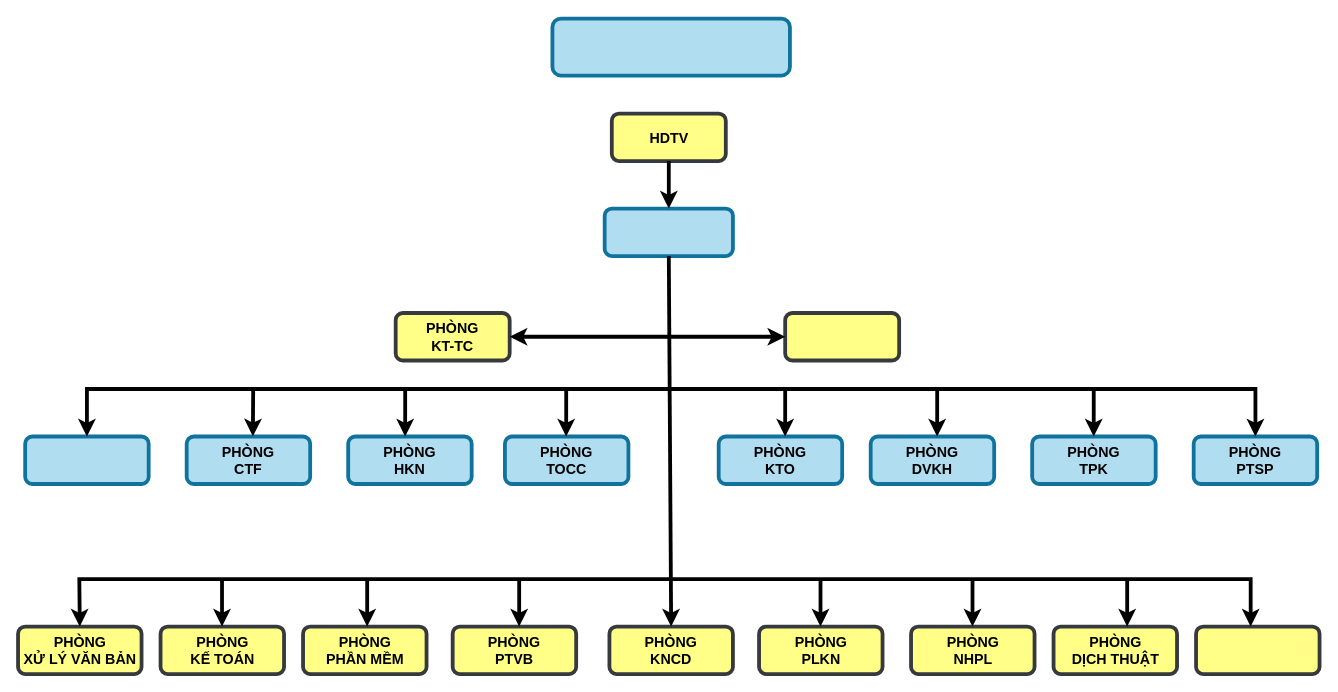
Image size: 1338x692. Some labels were removed from this diagram. Each missing label, with the centre of its shape:
"GIÁM ĐỐC" goes at point (668, 231).
"HỘI ĐỒNG KCD" goes at point (842, 336).
"PHÒNG HỖ TRỢ PHÁP LÝ" goes at point (1257, 649).
"PHÒNG TPT" goes at point (86, 459).
"SƠ ĐỒ CÔNG TY" goes at point (670, 46).
